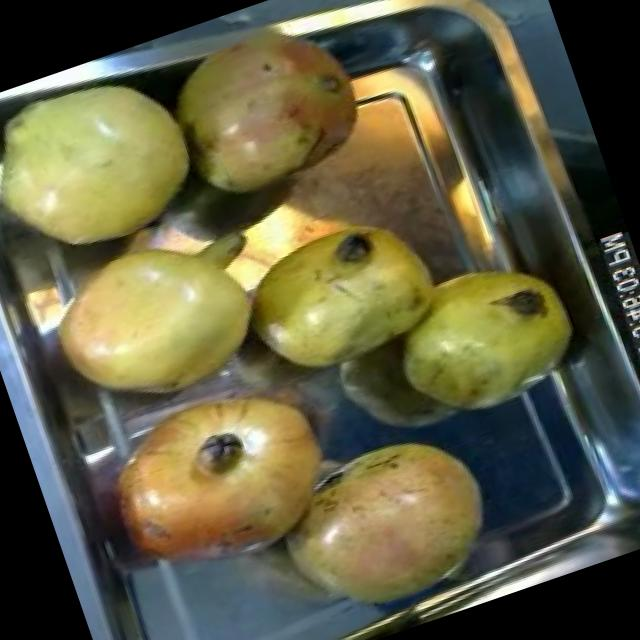fruit: (66, 348, 362, 606), (13, 196, 298, 442), (255, 409, 514, 637), (0, 41, 227, 289), (210, 185, 462, 408), (146, 0, 393, 225), (366, 233, 596, 440)
